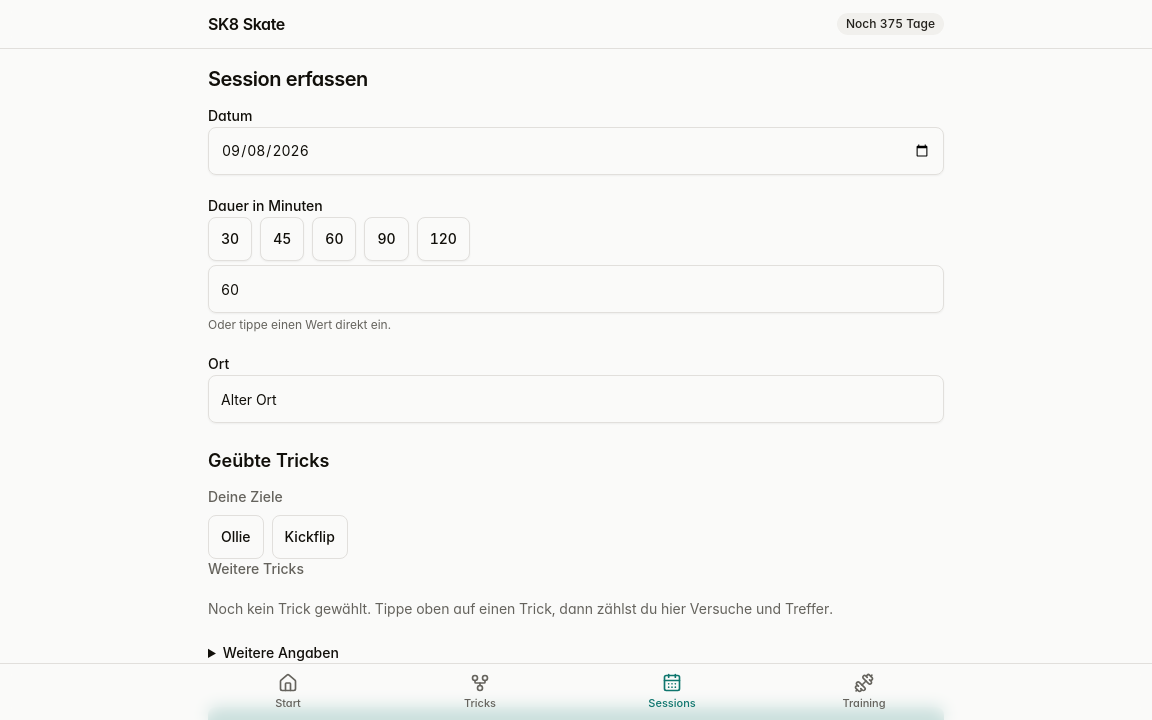
it: SessionCreateScreen › Kriterium 28: a successful save navigates to /sessions and shows the new entry
This screenshot has width=1152, height=720.
Replace the text in the field labelled "Ort" with "Neuer Contest-Spot". click: (576, 399)
box: left=208, top=375, right=944, bottom=423
(page scrolled)
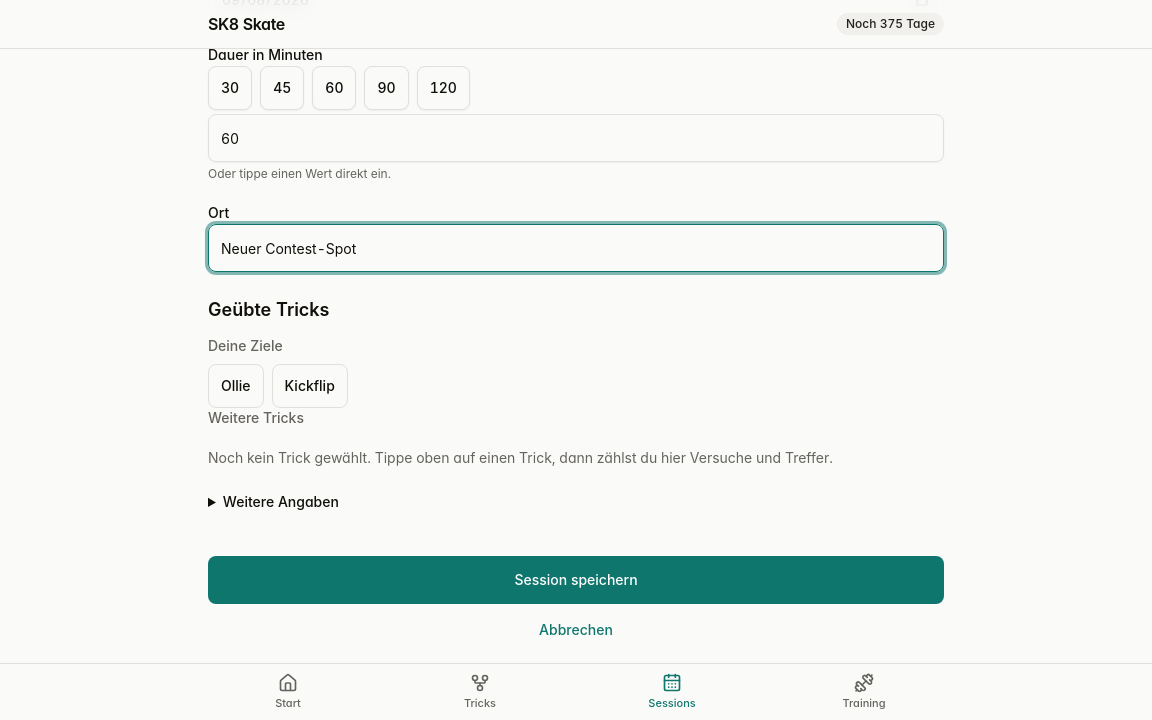
Click the button "Session speichern". click: (576, 580)
box: left=208, top=556, right=944, bottom=604
(page scrolled)
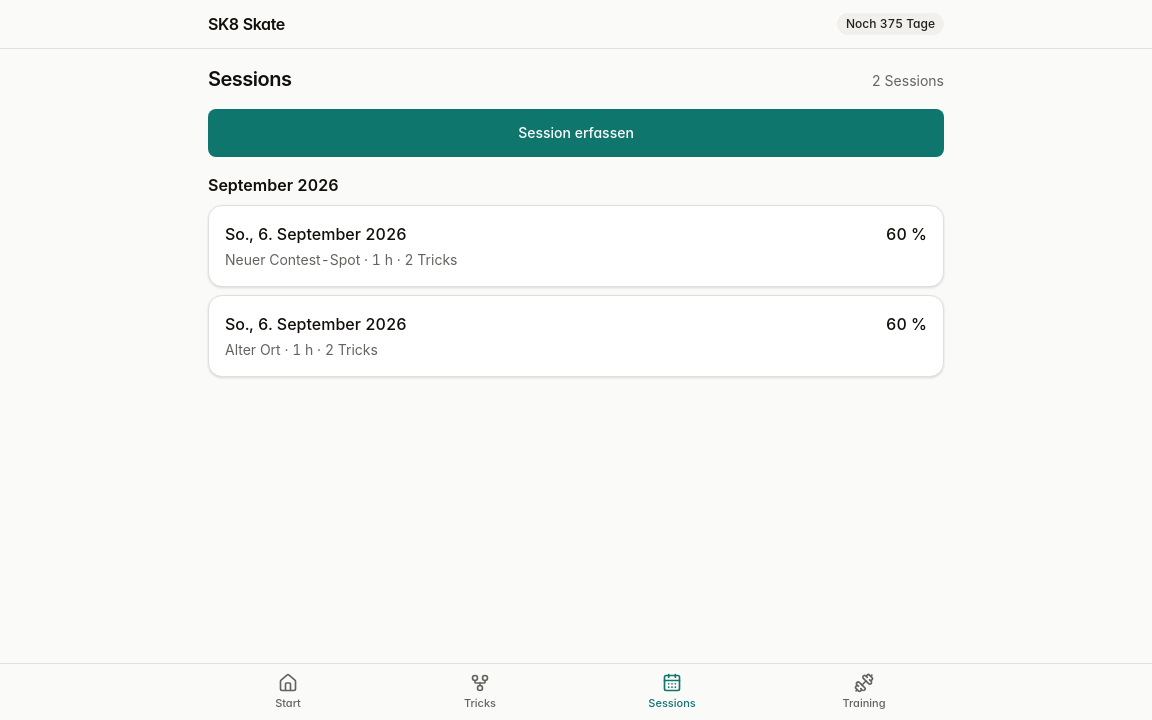
Result: the text "Neuer Contest-Spot" is shown at left=225, top=251, right=360, bottom=268
